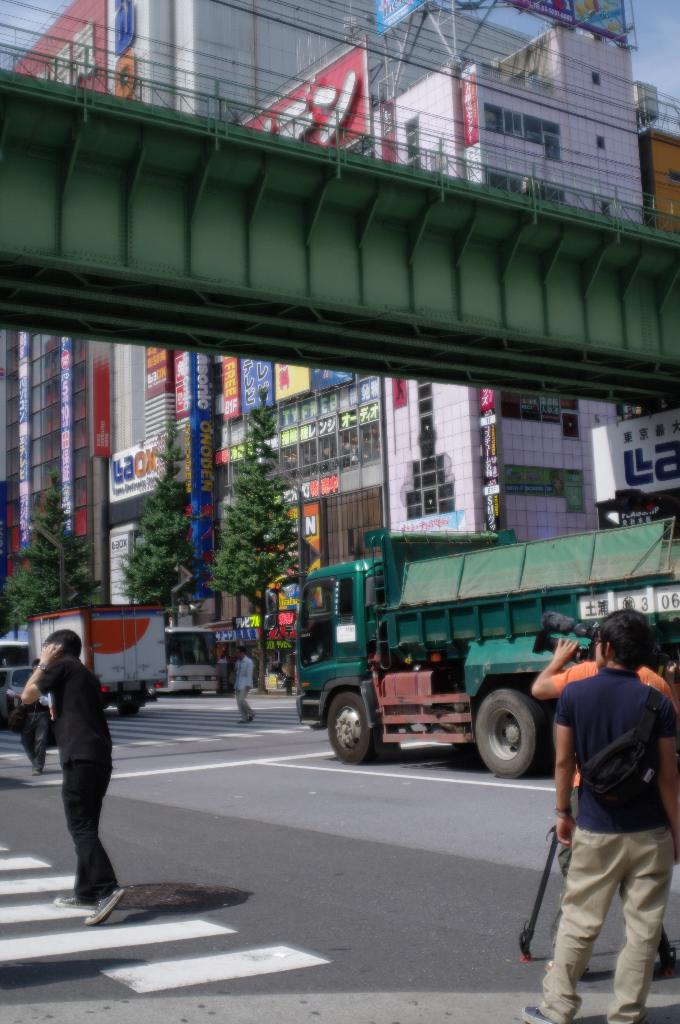Car: (0, 662, 51, 720)
